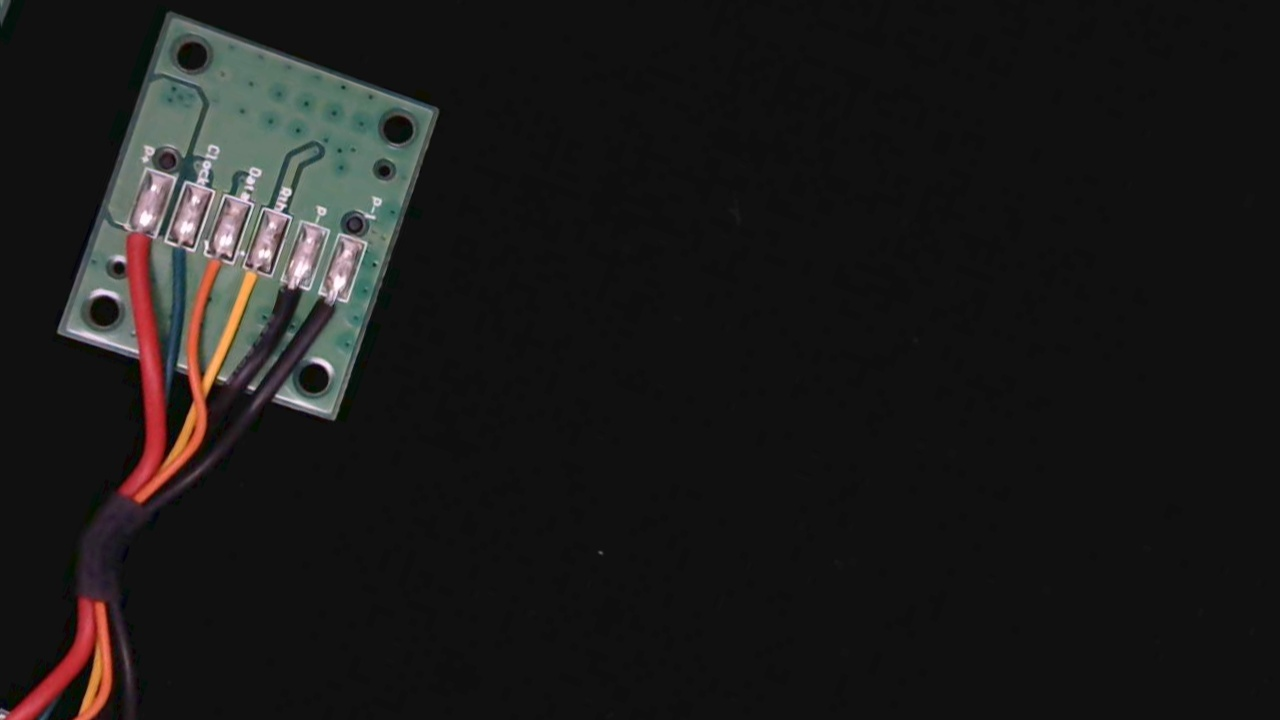Black: (261, 261, 313, 335)
Black1: (302, 275, 356, 350)
Green: (145, 221, 202, 295)
Orange: (183, 236, 238, 314)
Red: (104, 207, 161, 284)
Yellow: (219, 245, 277, 326)
